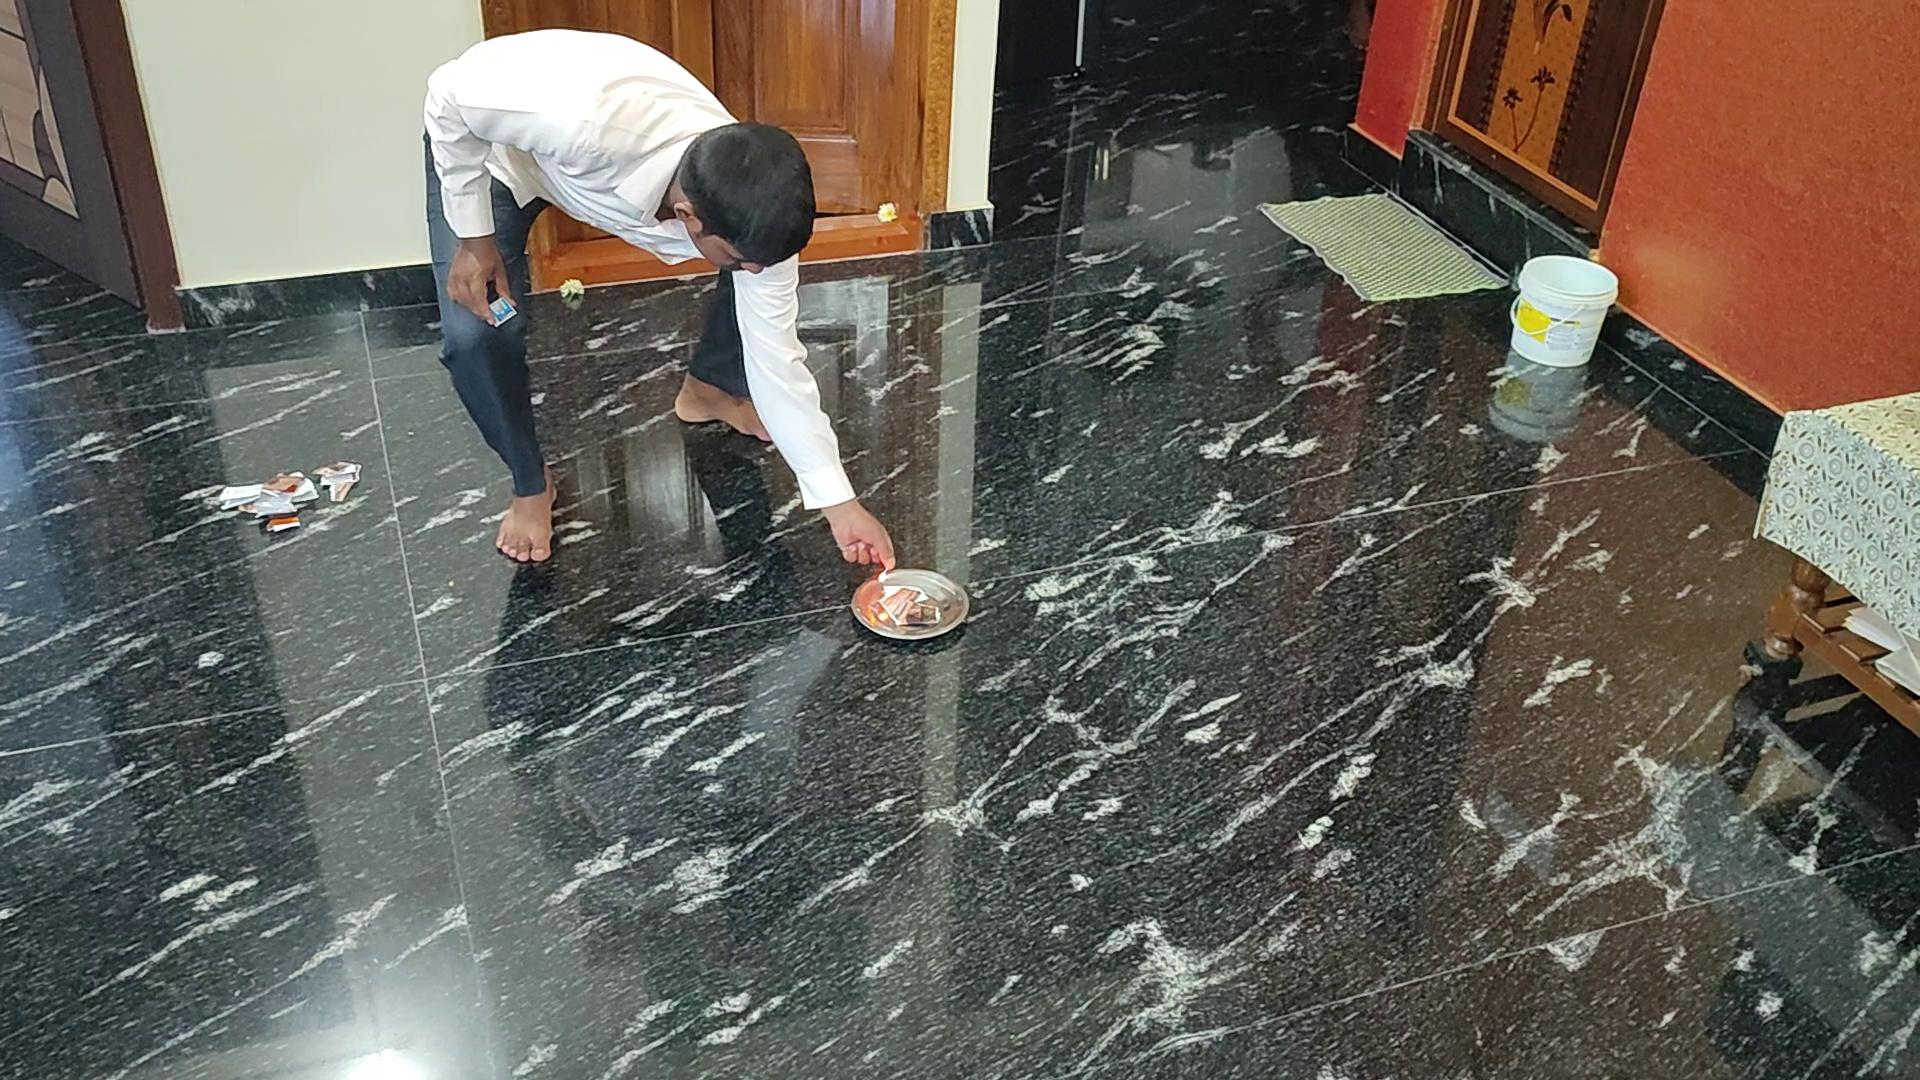Fire: (878, 574, 934, 632)
